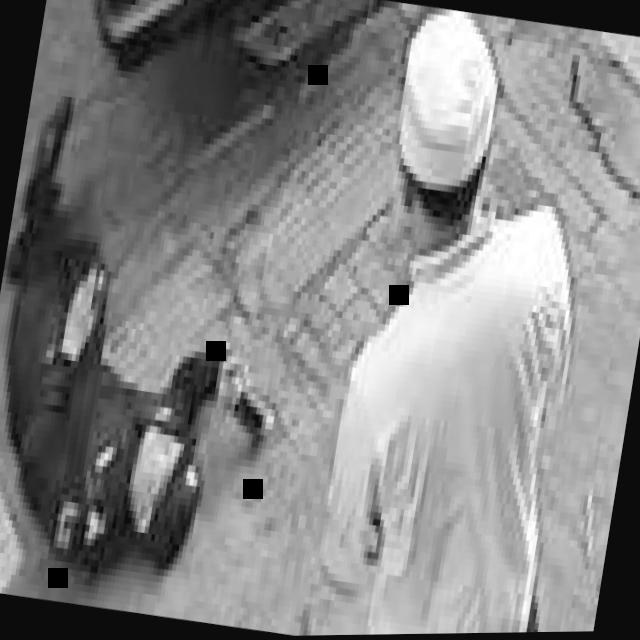Fall-Detected: (0, 95, 325, 599)
